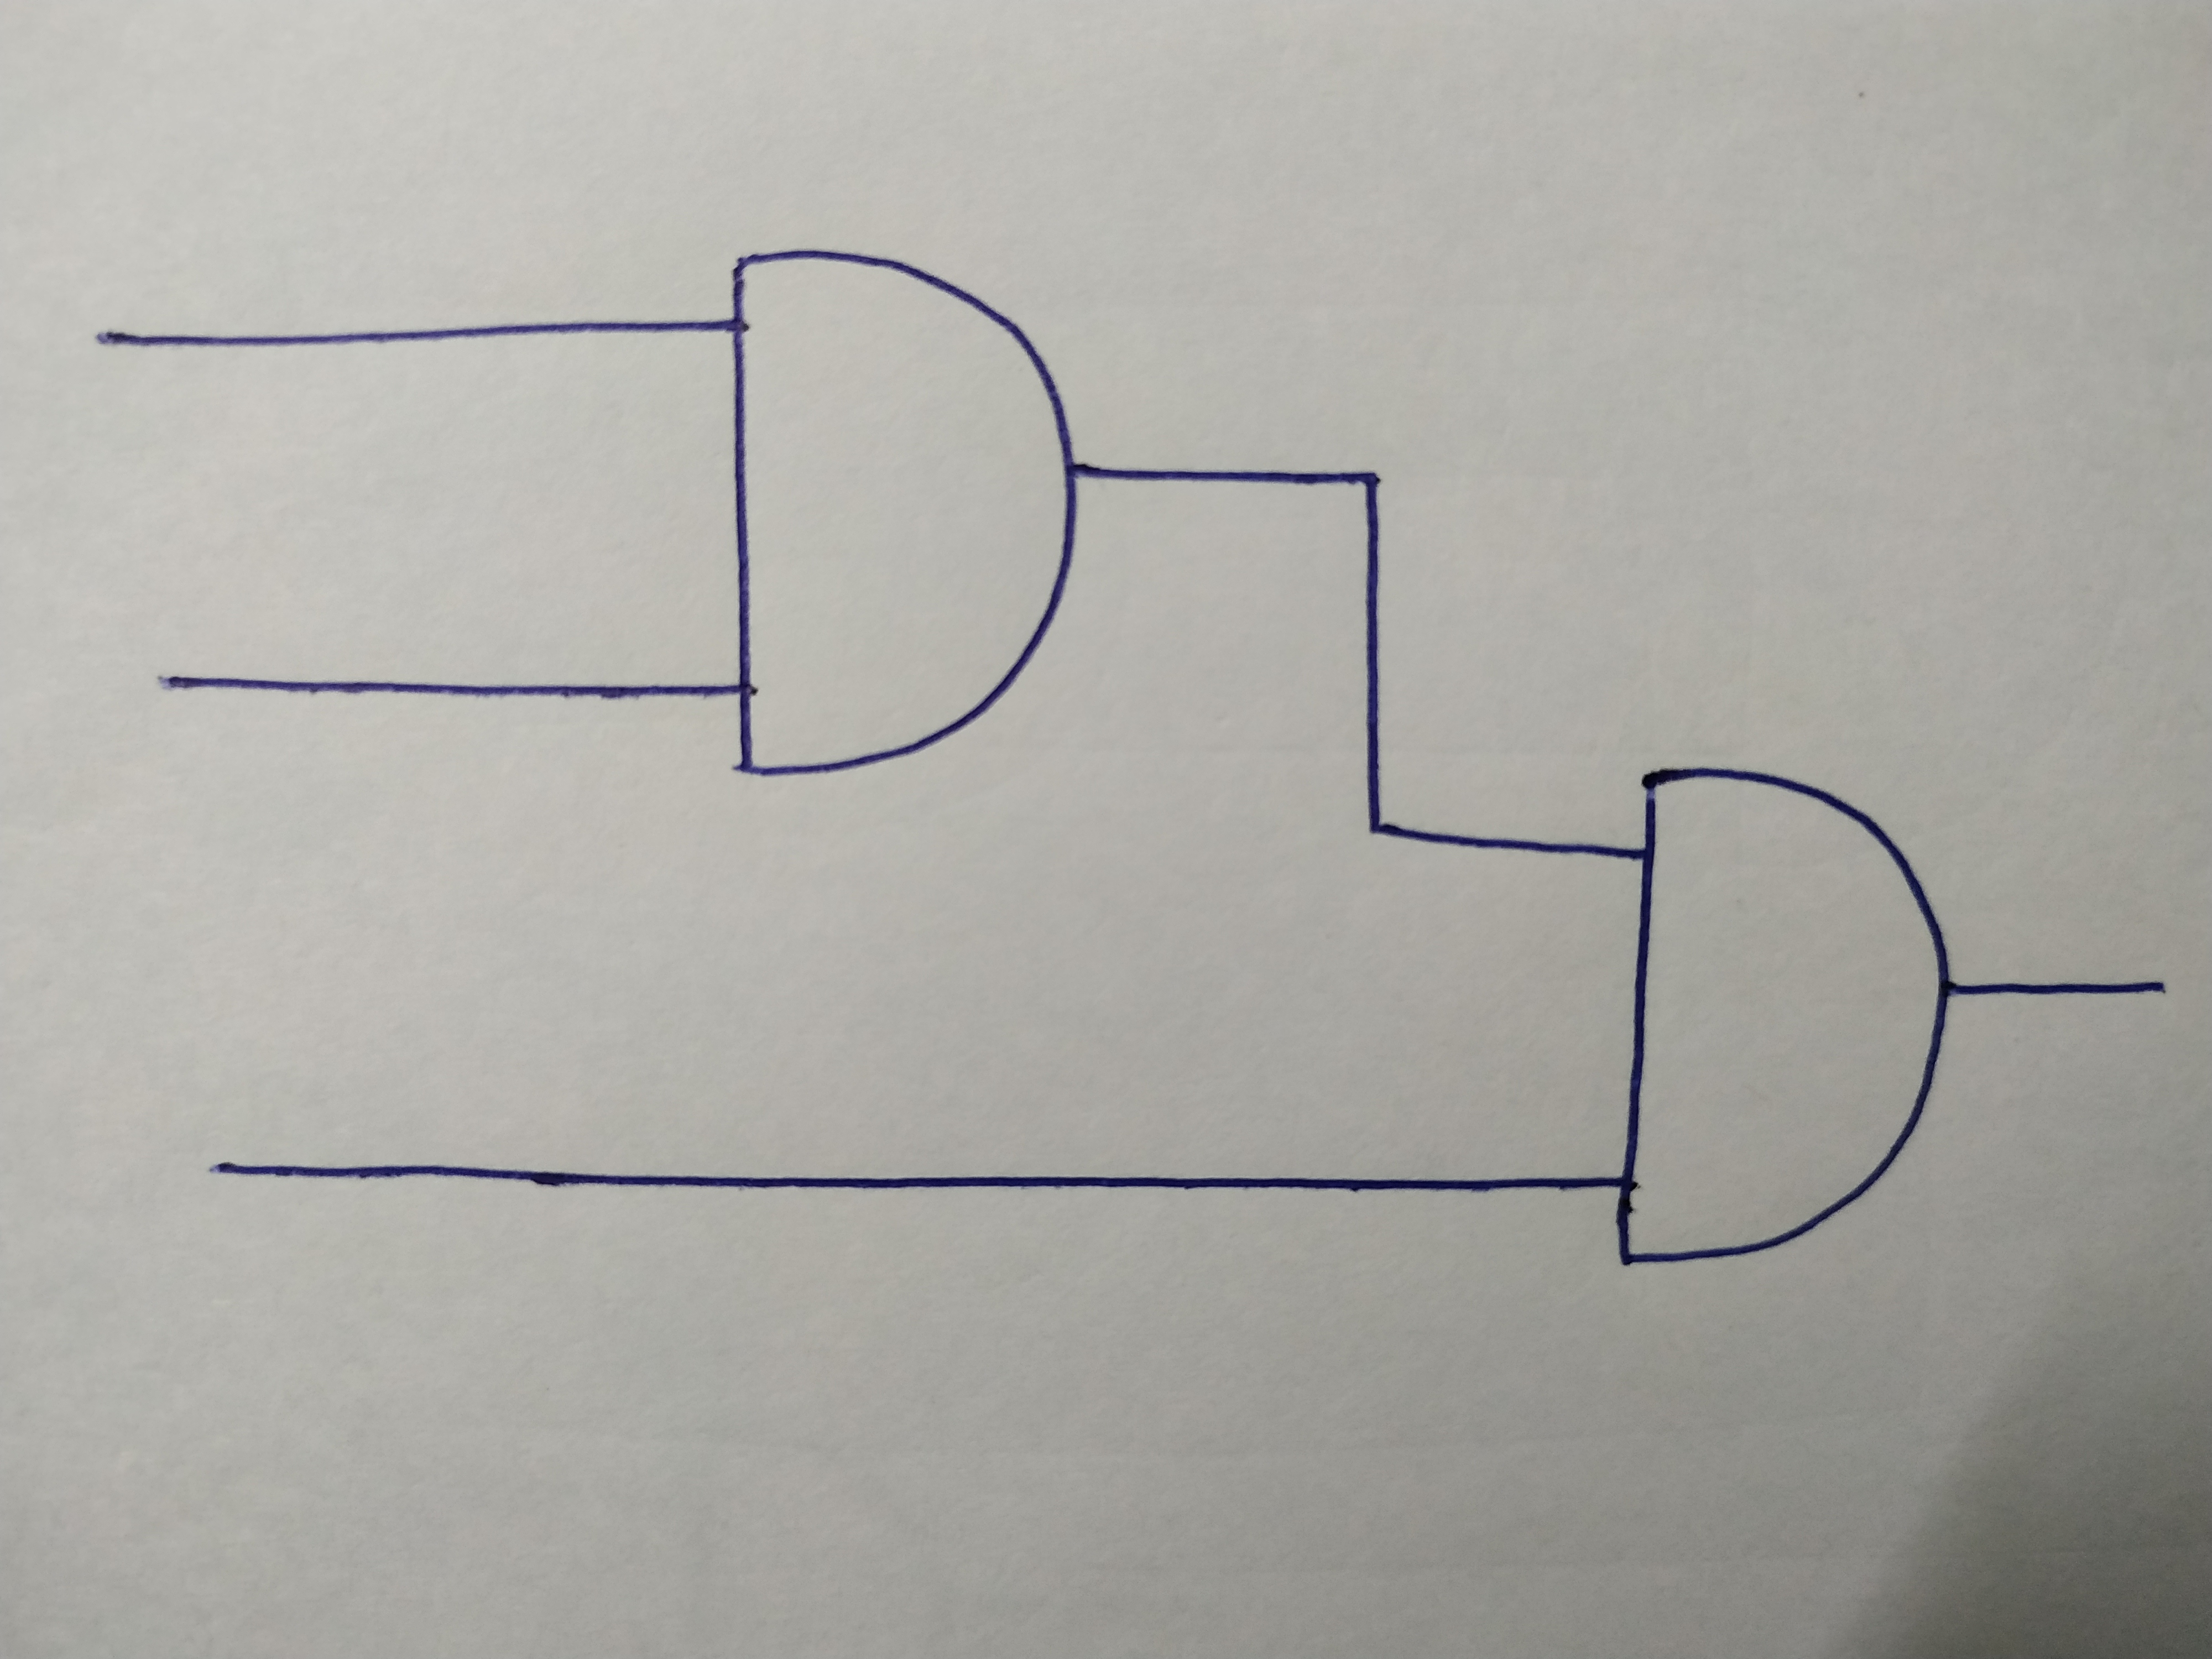and: (719, 244, 1075, 777), (1613, 765, 1956, 1265)
